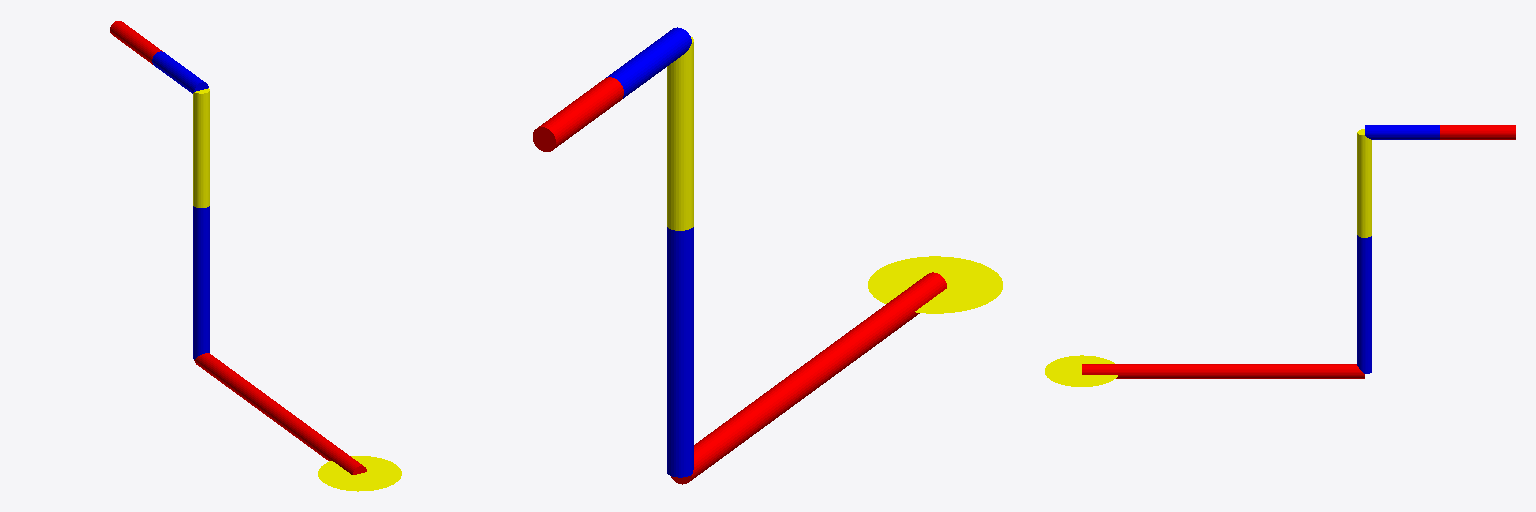
URDF robot description (robot_demo):
<?xml version="1.0"?>

<robot name="robot_demo">

  <!-- Color of materials -->
  <material name="yellow">
    <color rgba="1 1 0 1"/>
  </material>
  <material name="blue">
    <color rgba="0 0 1 1"/>
  </material>
  <material name="red">
    <color rgba="1 0 0 1"/>
  </material>

  <link name="base">
    <visual>
      <geometry>
        <cylinder length="0.0" radius="0.2"/>
      </geometry>
      <origin rpy="0 0 0" xyz="0 0 0"/>
      <material name="yellow" />
    </visual>
  </link>

  <!--<joint name="pan_joint" type="revolute">
    <parent link="base_link"/>
    <child link="pan_link"/>
    <origin xyz="0 0 0"/>
    <axis xyz="0 0 1" />
    <limit effort="300" velocity="0.1" lower="-3.1" upper="3.1"/>
  </joint>

  <link name="pan_link">
    <visual>
      <geometry>
        <cylinder length="0.4" radius="0.04"/>
      </geometry>
      <origin rpy="0 0 0" xyz="0 0 0.2"/>
      <material name="blue" />
    </visual>
  </link>-->

  <joint name="pan_joint" type="prismatic">
    <parent link="base"/>
    <child link="tilt_link"/>
    <origin xyz="0 0 0"/>
    <axis xyz="0 -1 0" />
    <limit effort="300" velocity="0.1" lower="0" upper="1.5"/>
  </joint>

  <link name="tilt_link"> 
    <visual>
      <geometry>
        <cylinder length="1.5" radius="0.04"/>
      </geometry>
      <origin rpy="1.57075 0 0" xyz="0 0.75 0.0"/>
      <material name="red" />
    </visual>
  </link>

  <joint name="tilt_joint" type="revolute"><!--cambio de nombre-->
    <parent link="tilt_link"/><!--union a nuevo link-->
    <child link="link_parado"/>  <!--link con nuevo nombre-->
    <origin xyz="0 1.5 0"/>
    <axis xyz="0 0 1" />
    <limit effort="300" velocity="0.1" lower="-3.1" upper="3.1"/>
  </joint>

  <link name="link_parado"> 
    <visual>
      <geometry>
        <cylinder length="0.8" radius="0.04"/>
      </geometry>
      <origin rpy="0 0 0" xyz="0 0 0.4"/>
      <material name="blue" />
    </visual>
  </link>

  <joint name="joint10" type="revolute">
    <parent link="link_parado"/>
    <child link="link10"/>
    <origin xyz="0 0 0.8"/>
    <axis xyz="1 0 0" />
    <limit effort="300" velocity="0.1" lower="-3.1" upper="3.1"/>
  </joint>

  <link name="link10">
    <visual>
      <geometry>
        <cylinder length="0.6" radius="0.04"/>
      </geometry>
      <origin rpy="0 0 0" xyz="0 0 0.3"/>
      <material name="yellow" />
    </visual>
  </link>

 <joint name="joint11" type="revolute">
    <parent link="link10"/>
    <child link="link11"/>
    <origin xyz="0 0 0.6"/>
    <axis xyz="1 0 0" />
    <limit effort="300" velocity="0.1" lower="-3.1" upper="3.1"/>
  </joint>

  <link name="link11">
    <visual>
      <geometry>
        <cylinder length="0.4" radius="0.04"/>
      </geometry>
      <origin rpy="1.57075 0 0" xyz="0 0.2 0"/>
      <material name="blue" />
    </visual>
  </link>

<joint name="jc1" type="revolute"><!--cambio de nombre-->
    <parent link="link11"/><!--link con nuevo nombre-->
    <child link="lc1"/><!--se une a nuevo link creado-->
    <origin xyz="0 0.4 0"/><!--altura nueva de link1-->
    <axis xyz="0 0 1" />
    <limit effort="300" velocity="0.1" lower="-3.1" upper="3.1"/>
  </joint>

  <link name="lc1"><!--nuevo link-->
    <visual>
      <geometry>
        <sphere radius="0"/><!--geometria esfera de radio igual al del link1-->
      </geometry>
      <origin rpy="0 0 0" xyz="0 0 0"/>
      <material name="red" />
    </visual>
  </link>

  <joint name="jc2" type="revolute"><!--cambio de nombre-->
    <parent link="lc1"/><!--link con nuevo nombre-->
    <child link="lc2"/><!--se une a nuevo link creado-->
    <origin xyz="0 0 0"/><!--altura nueva de link1-->
    <axis xyz="1 0 0" />
    <limit effort="300" velocity="0.1" lower="-3.1" upper="3.1"/>
  </joint>

  <link name="lc2"><!--nuevo link-->
    <visual>
      <geometry>
        <sphere radius="0"/><!--geometria esfera de radio igual al del link1-->
      </geometry>
      <origin rpy="0 0 0" xyz="0 0 0"/>
      <material name="red" />
    </visual>
  </link>


  <joint name="jc3" type="revolute"><!--cambio de nombre-->
    <parent link="lc2"/><!--link con nuevo nombre-->
    <child link="l5"/><!--se une a nuevo link creado-->
    <origin xyz="0 0 0"/><!--altura nueva de link1-->
    <axis xyz="0 1 0" />
    <limit effort="300" velocity="0.1" lower="-3.1" upper="3.1"/>
  </joint>

  <link name="l5">
    <visual>
      <geometry>
        <cylinder length="0.4" radius="0.04"/>
      </geometry>
      <origin rpy="1.57075 0 0" xyz="0 0.2 0"/>
      <material name="red" />
    </visual>
  </link>

</robot>

--- Render facts (derived) ---
Views: 3 orthographic renders of the robot side by side, from view 1: azimuth 30°, elevation 25°; view 2: azimuth 150°, elevation 25°; view 3: azimuth 270°, elevation 25°.
Model robot_demo with 8 links and 7 joints (6 revolute, 1 prismatic), rooted at base, posed all joints at 0.
Visible links, largest first — view 1: tilt_link, link_parado, link10, base, link11, l5; view 2: tilt_link, link_parado, base, link10, l5, link11; view 3: tilt_link, link_parado, link10, base, l5, link11.
Boxes of the visible links, <box> form: tilt_link: <box>194,353,366,474</box>; link_parado: <box>193,206,209,359</box>; link10: <box>193,88,209,207</box>; base: <box>318,456,401,491</box>; link11: <box>152,51,208,93</box>; l5: <box>110,21,162,64</box>; tilt_link: <box>671,272,946,484</box>; link_parado: <box>667,227,693,477</box>; base: <box>868,256,1002,313</box>; link10: <box>667,37,693,230</box>; l5: <box>533,77,623,151</box>; link11: <box>606,27,691,98</box>; tilt_link: <box>1082,364,1364,378</box>; link_parado: <box>1357,235,1371,373</box>; link10: <box>1357,129,1371,237</box>; base: <box>1045,355,1117,386</box>; l5: <box>1440,125,1515,139</box>; link11: <box>1365,125,1439,139</box>.
Bounding box of the posed robot: 0.4 × 2.5 × 1.48 m (x, y, z).
Geometry: primitives only (box / cylinder / sphere), no mesh files.